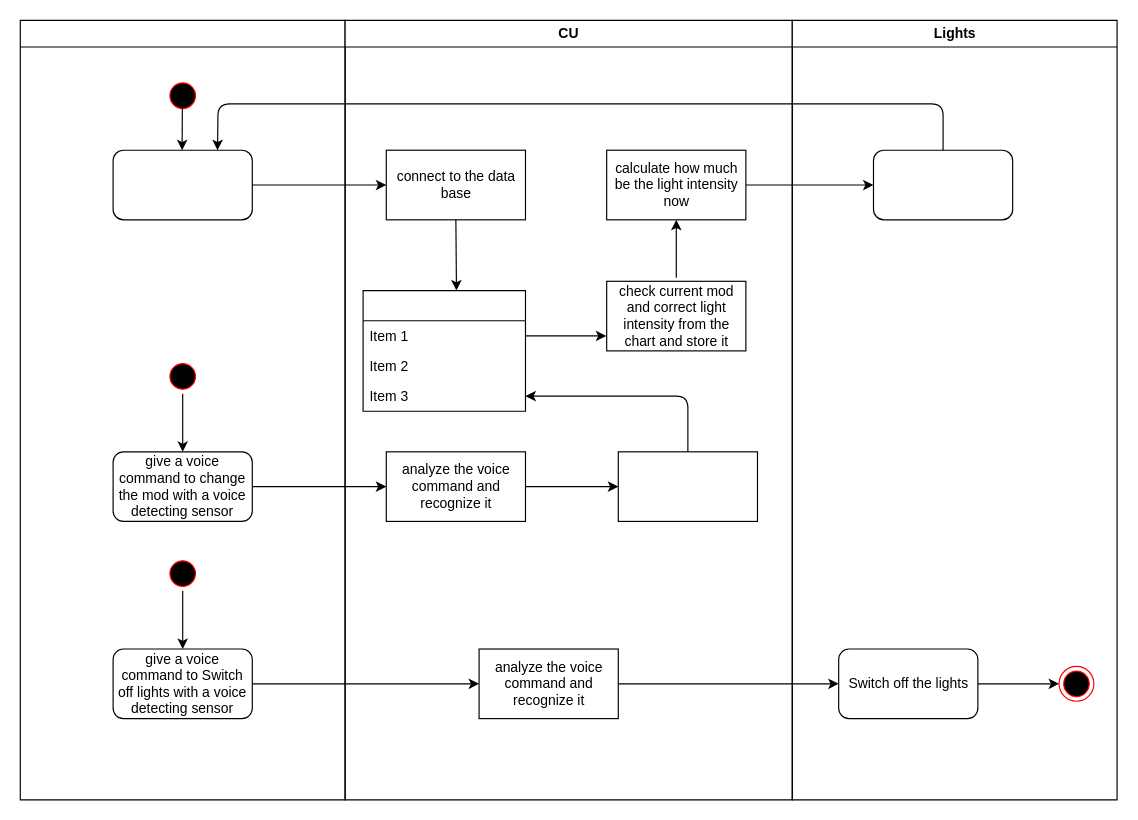
This 1138x820 diagram has some shape labels left out. Each missing label, with the box of its shape:
Change the room light color and intensity: (872, 149, 1013, 220)
Database: (362, 289, 525, 411)
Every 1min read the light intensity in the room with the LDR sensor: (112, 149, 252, 220)
sensors: (19, 19, 345, 800)
Update current mod on database: (617, 451, 757, 521)
